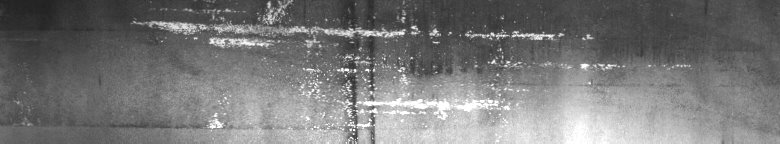kb: (130, 4, 691, 136)
